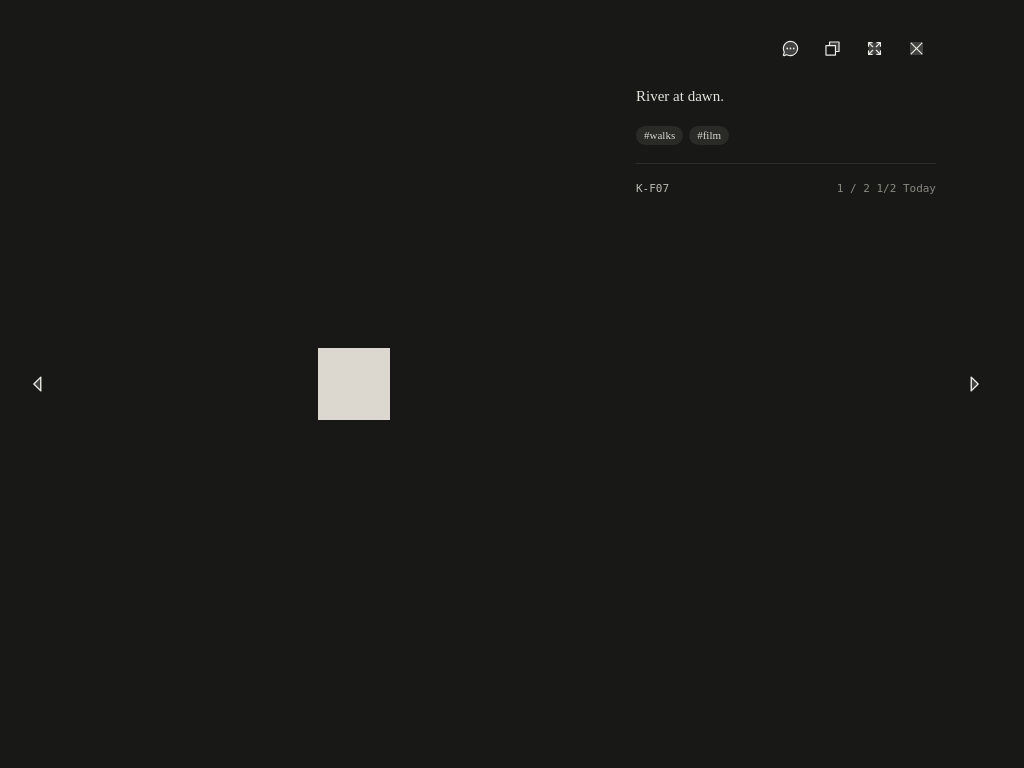
Scenario: PhotoModal click-to-edit › click swaps in a textarea with the raw body (hashtags kept), focused
This screenshot has width=1024, height=768.
Click the button "River at dawn." at (680, 96), box [636,88,724,104]
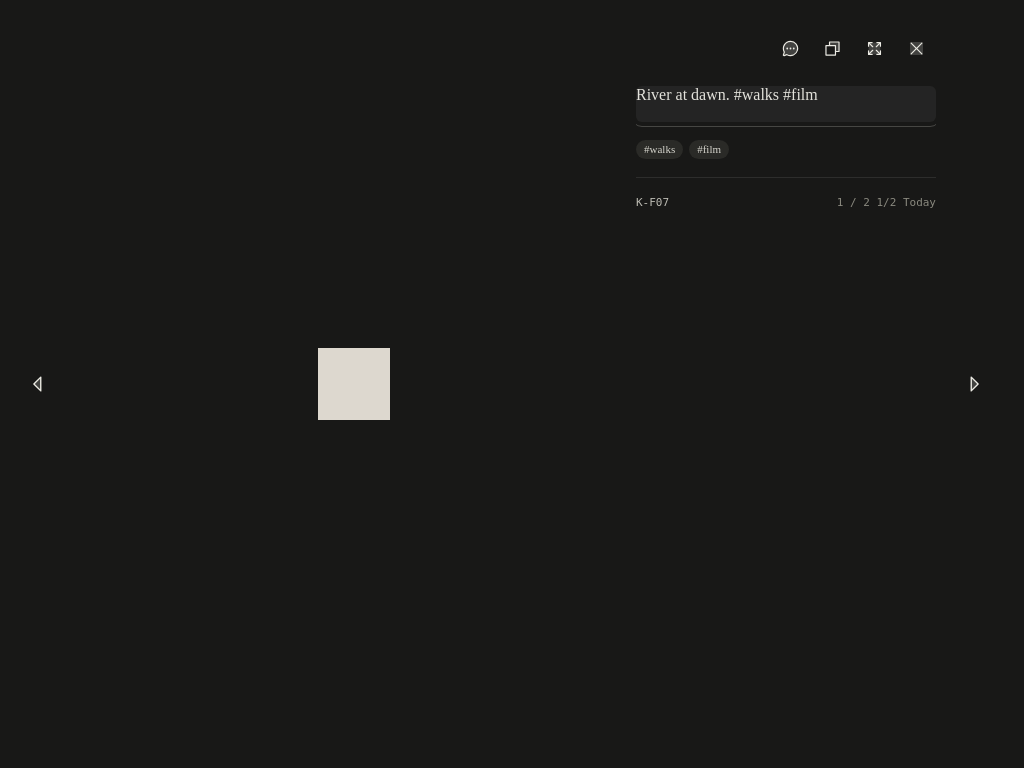
Now the text box named "Note text" holds "River at dawn. #walks #film", box [636,86,936,122]
